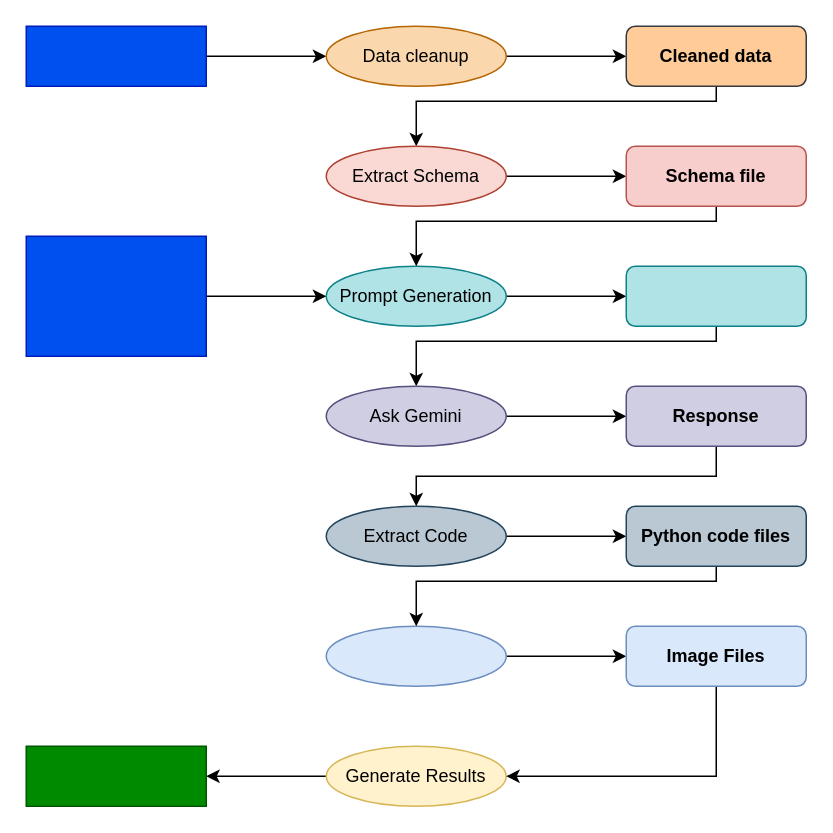
Image size: 833x833. Some labels were removed from this diagram. Each missing label, with the centre of its shape:
Execute Code: the point at 415,655
Prompt: the point at 715,295
Results: the point at 115,775
Your CSV data: the point at 115,55
Your Questions (e.g. How many people earn more than 40000?): the point at 115,295
